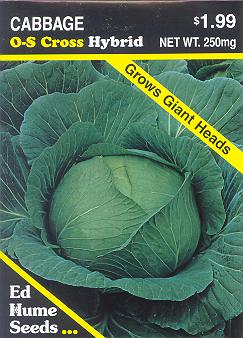cabbage: (0, 58, 242, 337)
